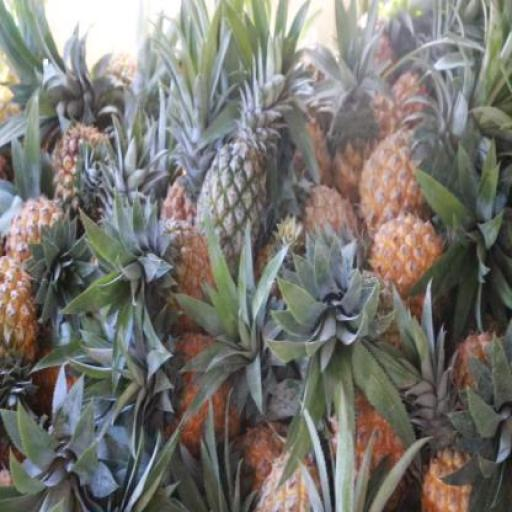Pineapple - v8 v1: (360, 135, 431, 237), (371, 218, 444, 306), (0, 257, 41, 398)
